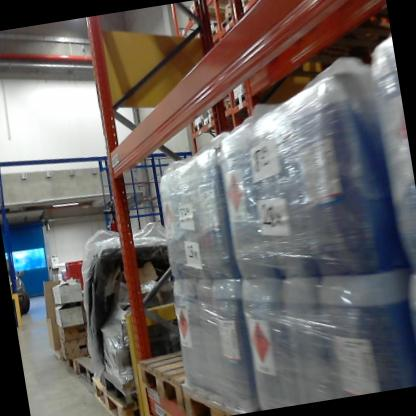pallet: (134, 347, 217, 414), (181, 372, 266, 416), (93, 359, 146, 407), (88, 372, 140, 416), (74, 349, 109, 387), (50, 342, 81, 378), (183, 0, 218, 25), (219, 10, 242, 31), (241, 0, 277, 11), (201, 110, 219, 131), (228, 93, 257, 106), (188, 118, 206, 137), (205, 24, 220, 46), (217, 99, 232, 116)
